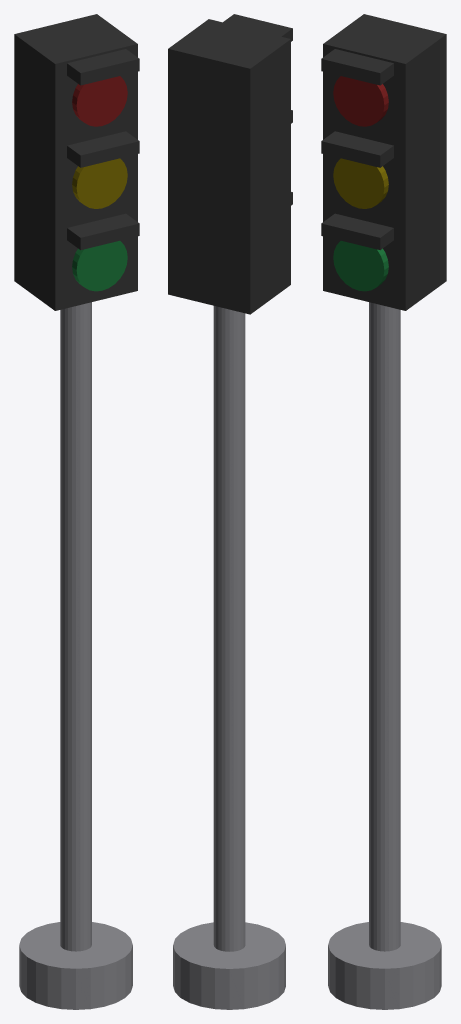
The model's file is TrafficLight.fbx.
3 renders of one model, left to right at view 1: azimuth 30°, elevation 25°; view 2: azimuth 150°, elevation 25°; view 3: azimuth 330°, elevation 25°, orthographic.
Parts seen in each view (by area): view 1: TL_Housing, TL_Pole, TL_PoleBase, Lamp_Green, Lamp_Red, Lamp_Yellow, Visor_Yellow, Visor_Green, Visor_Red; view 2: TL_Housing, TL_Pole, TL_PoleBase, Visor_Red; view 3: TL_Housing, TL_Pole, TL_PoleBase, Lamp_Green, Lamp_Red, Lamp_Yellow, Visor_Yellow, Visor_Green, Visor_Red.
Part boxes in pixels (bbox=[...]): TL_Housing: bbox=[14, 14, 137, 310]; TL_Pole: bbox=[60, 302, 91, 951]; TL_PoleBase: bbox=[19, 922, 132, 1009]; Lamp_Green: bbox=[72, 240, 127, 291]; Lamp_Red: bbox=[72, 76, 127, 126]; Lamp_Yellow: bbox=[72, 158, 127, 208]; Visor_Yellow: bbox=[67, 131, 139, 167]; Visor_Green: bbox=[67, 213, 139, 250]; Visor_Red: bbox=[67, 49, 139, 85]; TL_Housing: bbox=[168, 19, 290, 314]; TL_Pole: bbox=[213, 306, 245, 951]; TL_PoleBase: bbox=[173, 922, 285, 1009]; Visor_Red: bbox=[223, 14, 292, 41]; TL_Housing: bbox=[323, 14, 446, 310]; TL_Pole: bbox=[369, 302, 400, 951]; TL_PoleBase: bbox=[328, 922, 441, 1009]; Lamp_Green: bbox=[333, 240, 388, 291]; Lamp_Red: bbox=[333, 76, 388, 126]; Lamp_Yellow: bbox=[333, 158, 388, 208]; Visor_Yellow: bbox=[321, 131, 393, 167]; Visor_Green: bbox=[321, 213, 393, 250]; Visor_Red: bbox=[321, 49, 393, 85].
Size of the model in its own units: 50 by 460 by 55.
